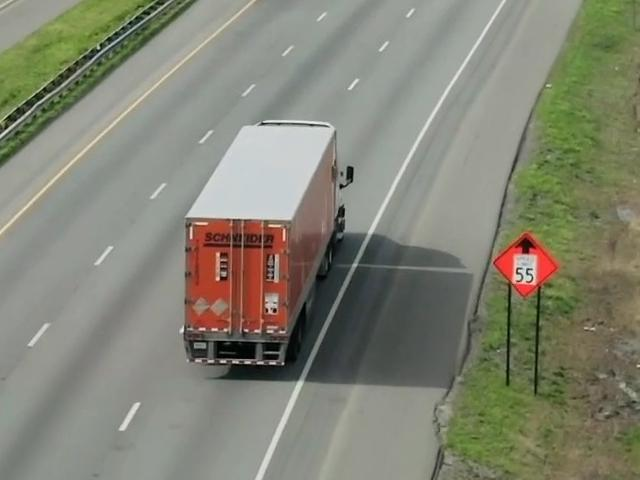truck: (186, 106, 358, 362)
